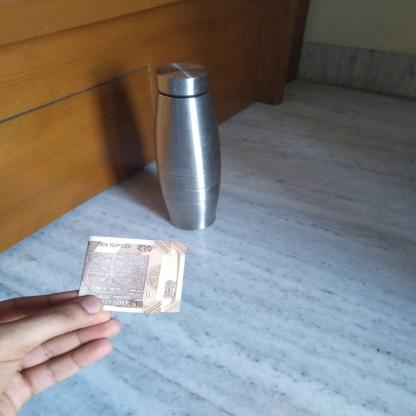New10Back: (82, 238, 164, 310)
